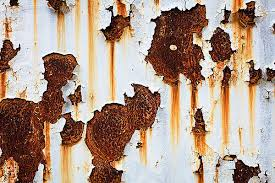rust: (87, 85, 160, 183), (148, 6, 208, 86), (40, 53, 84, 147), (3, 97, 45, 181), (222, 152, 261, 183), (99, 7, 130, 42), (210, 27, 233, 62), (190, 108, 209, 138), (236, 4, 258, 29), (247, 59, 263, 88)
